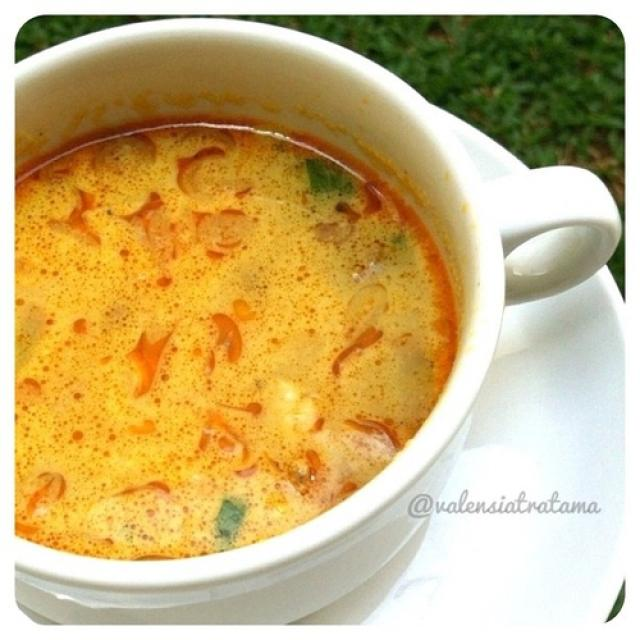汤锅炖物: (13, 39, 499, 588)
